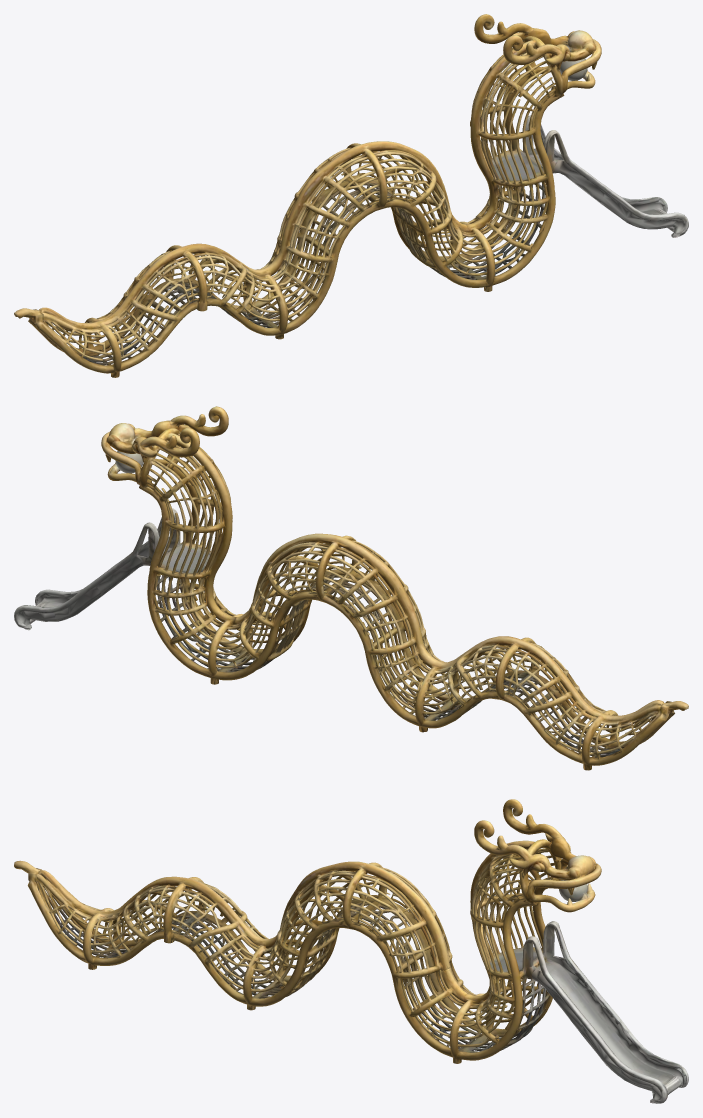
Rendered from dragon.glb.
The picture shows the model from 3 angles, top to bottom: view 1: azimuth 30°, elevation 25°; view 2: azimuth 150°, elevation 25°; view 3: azimuth 330°, elevation 25°; orthographic projection.
Visible parts, largest first — view 1: tripo_node_dccdbcd3-0e5f-4300-bd95-a7067ce7a629; view 2: tripo_node_dccdbcd3-0e5f-4300-bd95-a7067ce7a629; view 3: tripo_node_dccdbcd3-0e5f-4300-bd95-a7067ce7a629.
Part boxes in pixels (bbox=[...]): tripo_node_dccdbcd3-0e5f-4300-bd95-a7067ce7a629: bbox=[14, 14, 688, 377]; tripo_node_dccdbcd3-0e5f-4300-bd95-a7067ce7a629: bbox=[14, 406, 688, 770]; tripo_node_dccdbcd3-0e5f-4300-bd95-a7067ce7a629: bbox=[14, 799, 688, 1103].
Bounding box in the file's own units: 0.9828 × 0.3499 × 0.1059.
Materials: 1 (1 with a texture image).
